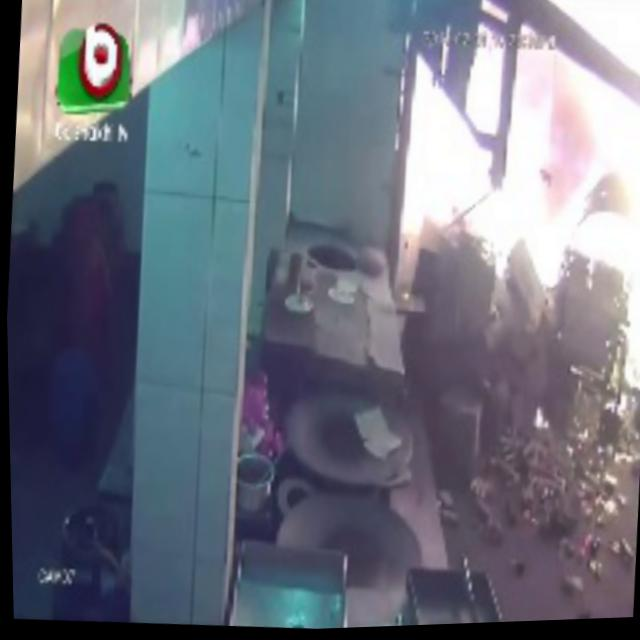fire: (498, 62, 639, 274), (404, 73, 504, 253)
